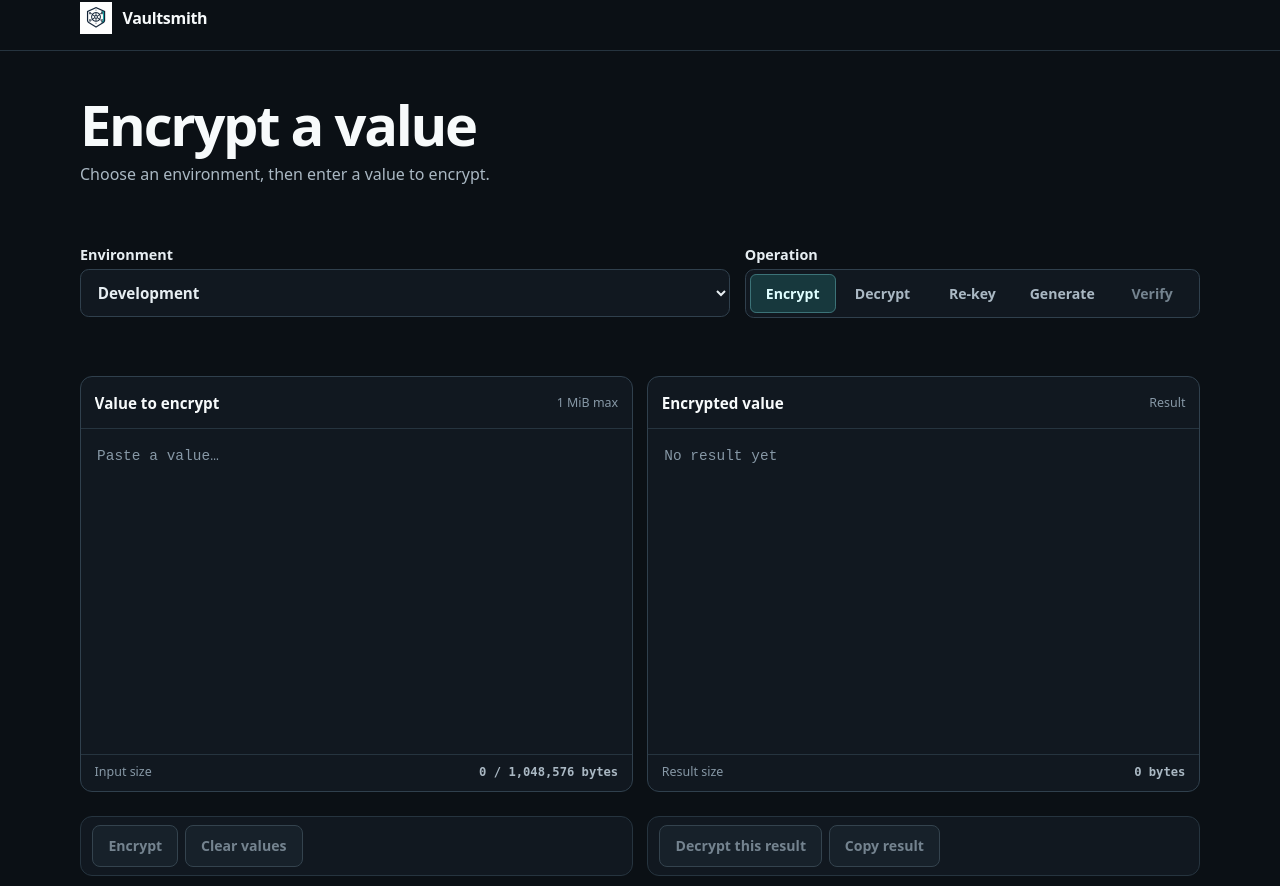
Test case: Generate view integration › distinguishes a Generate timeout from cancellation without retrying
Click the button with aria-label "Set generate mode": (1062, 293) [1019,274,1105,313]
(page scrolled)
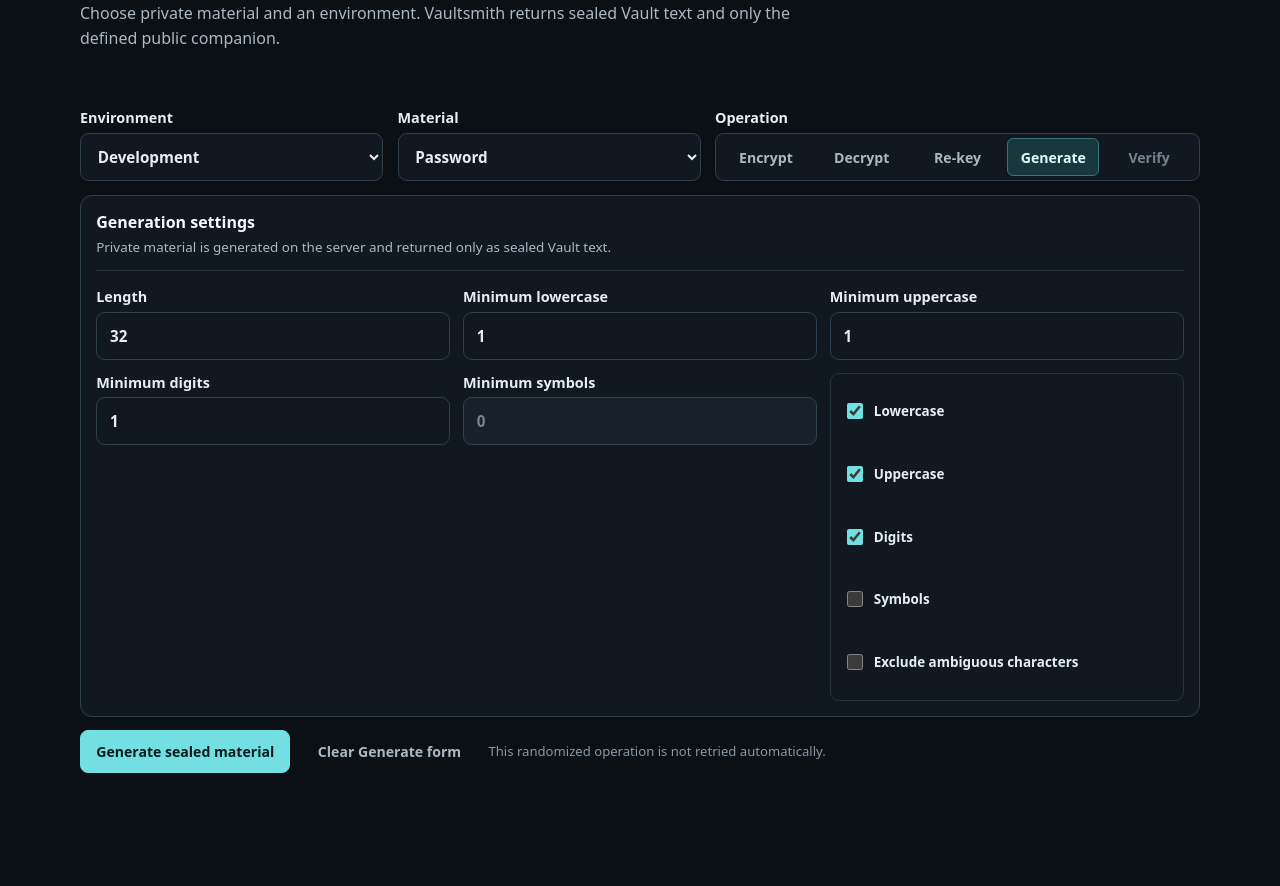
Click the button "Generate sealed material": (185, 752) [80,730,290,773]
Wait 40000 ms
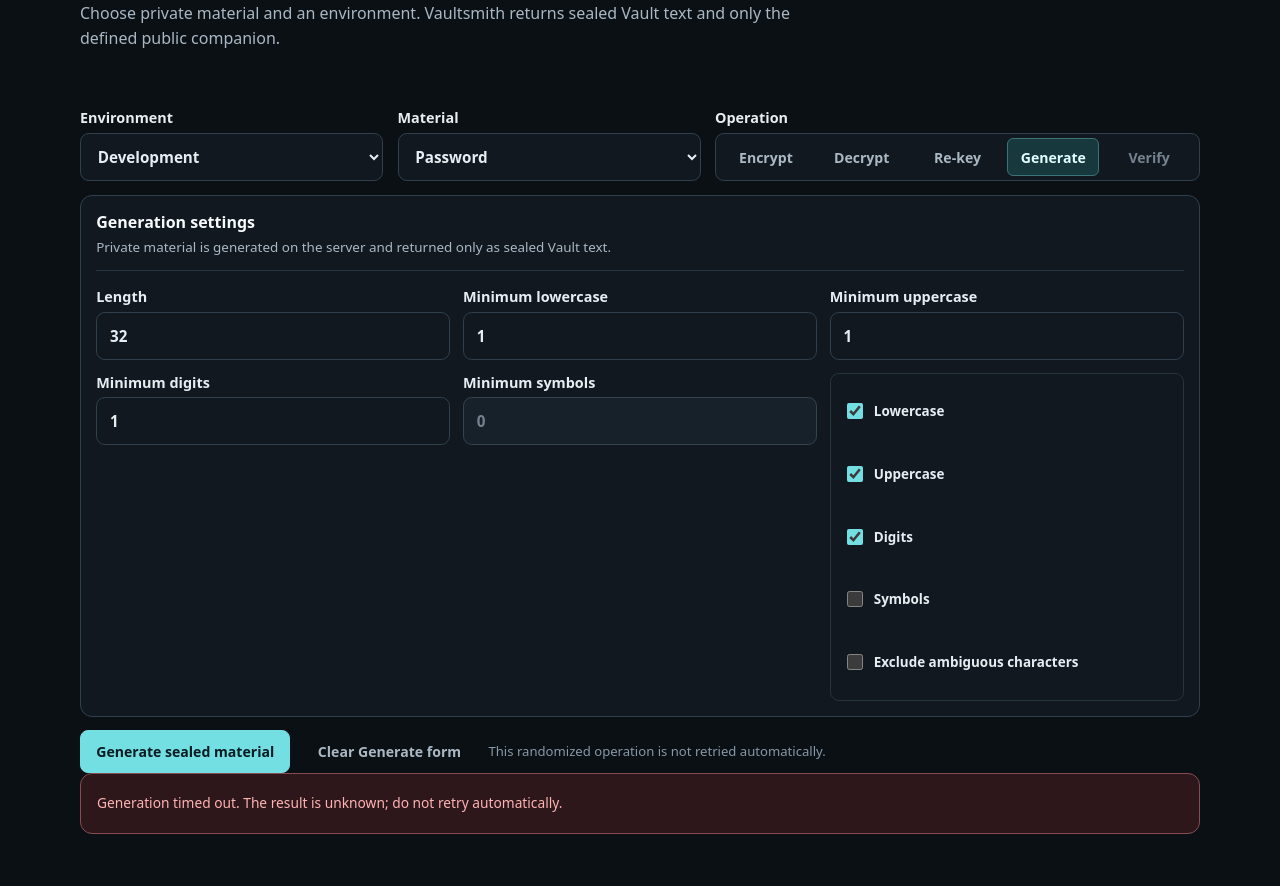
expect the button "Generate sealed material" is enabled: met, box [80,730,290,773]
expect the message reads "Generation timed out. The result is unknown; do not retry automatically.": met, box [97,793,562,812]
